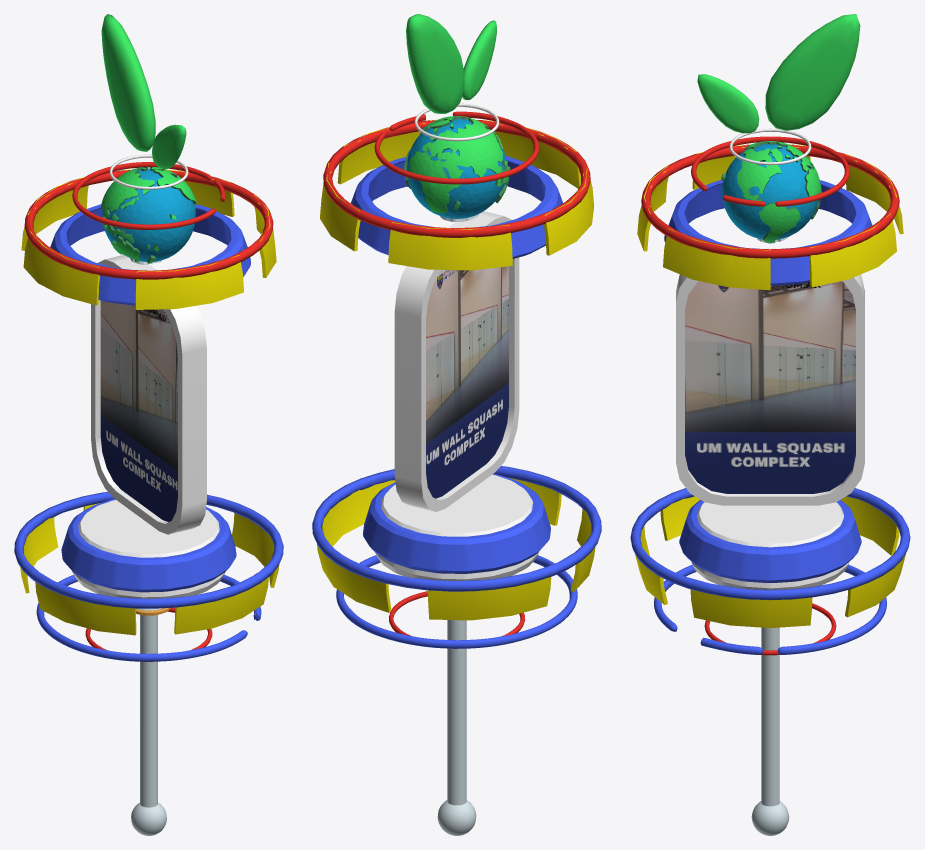
File: squash.glb
3 views of the same model, side by side, from view 1: azimuth 30°, elevation 25°; view 2: azimuth 150°, elevation 25°; view 3: azimuth 270°, elevation 25° (orthographic). The views are drawn at different scales.
Parts seen in each view (by area): view 1: pCube3, polySurface2, pasted__pSphere8, pasted__pSphere6, pasted__pCylinder9, Sphere, pasted__pCylinder10, pCube5, pasted__polySurface27, pasted__polySurface28, pasted__pCone1, pasted__polySurface30 (+3 smaller); view 2: pCube3, polySurface2, pasted__pSphere8, pasted__pSphere6, pasted__pCylinder9, Sphere, pasted__pCylinder10, pasted__polySurface27, pCube5, pasted__polySurface28, pasted__polySurface30, pasted__pCone1 (+4 smaller); view 3: pCube3, pasted__pSphere8, pCube5, pasted__pSphere6, Sphere, pasted__pCylinder9, pasted__pCylinder10, polySurface2, pasted__polySurface27, pasted__polySurface28, pasted__polySurface30, pasted__pCone1 (+4 smaller).
Boxes of the visible parts, left/top/right/bottom form: pCube3: left=100, top=300, right=177, bottom=522; polySurface2: left=91, top=255, right=206, bottom=534; pasted__pSphere8: left=21, top=169, right=276, bottom=309; pasted__pSphere6: left=20, top=503, right=279, bottom=635; pasted__pCylinder9: left=61, top=499, right=236, bottom=592; Sphere: left=100, top=166, right=196, bottom=264; pasted__pCylinder10: left=71, top=500, right=225, bottom=598; pCube5: left=101, top=14, right=186, bottom=169; pasted__polySurface27: left=14, top=492, right=283, bottom=608; pasted__polySurface28: left=24, top=170, right=273, bottom=279; pasted__pCone1: left=131, top=608, right=166, bottom=835; pasted__polySurface30: left=50, top=204, right=250, bottom=305; pCube3: left=426, top=266, right=508, bottom=498; polySurface2: left=394, top=211, right=519, bottom=511; pasted__pSphere8: left=320, top=119, right=593, bottom=270; pasted__pSphere6: left=317, top=477, right=595, bottom=620; pasted__pCylinder9: left=363, top=473, right=550, bottom=573; Sphere: left=404, top=116, right=510, bottom=221; pasted__pCylinder10: left=375, top=474, right=539, bottom=580; pasted__polySurface27: left=312, top=466, right=601, bottom=591; pCube5: left=406, top=14, right=496, bottom=113; pasted__polySurface28: left=323, top=120, right=590, bottom=237; pasted__polySurface30: left=350, top=156, right=562, bottom=258; pasted__pCone1: left=437, top=620, right=476, bottom=835; pCube3: left=685, top=281, right=855, bottom=493; pasted__pSphere8: left=637, top=144, right=903, bottom=290; pCube5: left=697, top=14, right=860, bottom=133; pasted__pSphere6: left=635, top=496, right=905, bottom=627; Sphere: left=721, top=141, right=821, bottom=243; pasted__pCylinder9: left=679, top=500, right=861, bottom=582; pasted__pCylinder10: left=691, top=502, right=849, bottom=589; polySurface2: left=676, top=248, right=864, bottom=505; pasted__polySurface27: left=630, top=488, right=910, bottom=600; pasted__polySurface28: left=641, top=144, right=899, bottom=258; pasted__polySurface30: left=664, top=180, right=872, bottom=285; pasted__pCone1: left=751, top=627, right=789, bottom=835.
Bounding box in the file's own units: 0.0149 × 0.0481 × 0.0149.
Materials: 10 (1 with a texture image).
